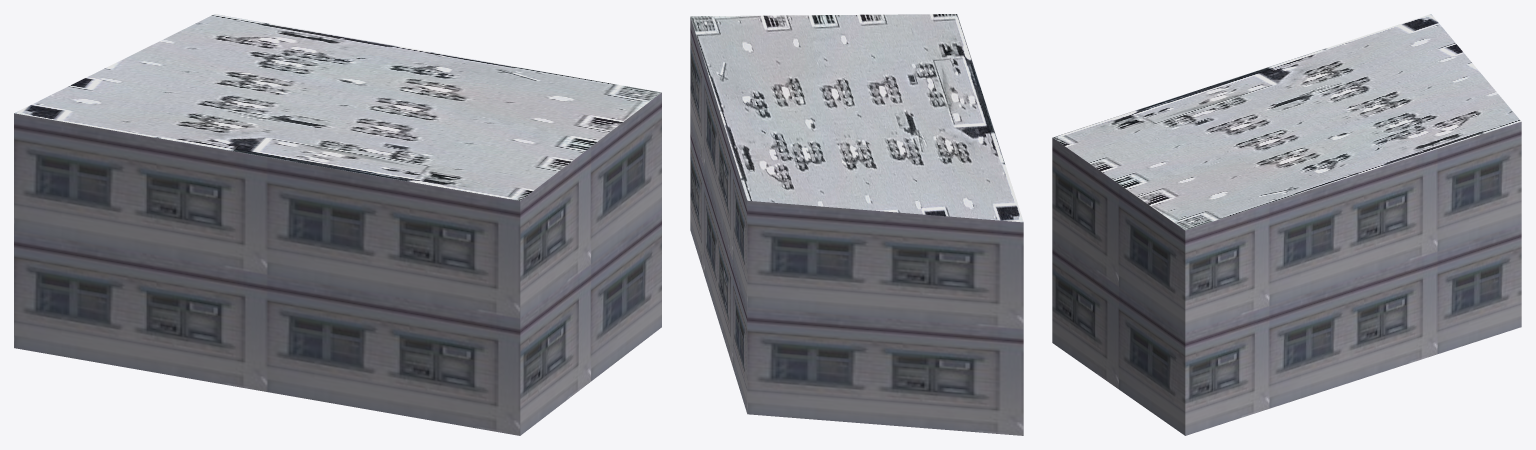
File: ResTex__1506.fbx
3 views of the same model, side by side, from view 1: azimuth 30°, elevation 25°; view 2: azimuth 150°, elevation 25°; view 3: azimuth 270°, elevation 25° (orthographic). The views are drawn at different scales.
Visible parts, largest first — view 1: CityEngineMaterial_1_m, CityEngineMaterial_4_m; view 2: CityEngineMaterial_1_m, CityEngineMaterial_4_m; view 3: CityEngineMaterial_1_m, CityEngineMaterial_4_m.
Part boxes in pixels (bbox=[...]): CityEngineMaterial_1_m: bbox=[14, 92, 661, 435]; CityEngineMaterial_4_m: bbox=[14, 14, 661, 200]; CityEngineMaterial_1_m: bbox=[690, 17, 1023, 435]; CityEngineMaterial_4_m: bbox=[690, 14, 1023, 222]; CityEngineMaterial_1_m: bbox=[1052, 122, 1521, 435]; CityEngineMaterial_4_m: bbox=[1052, 14, 1521, 230].
Bounding box in the file's own units: 13.56 × 6 × 12.42.
Materials: 2 (2 with a texture image).
